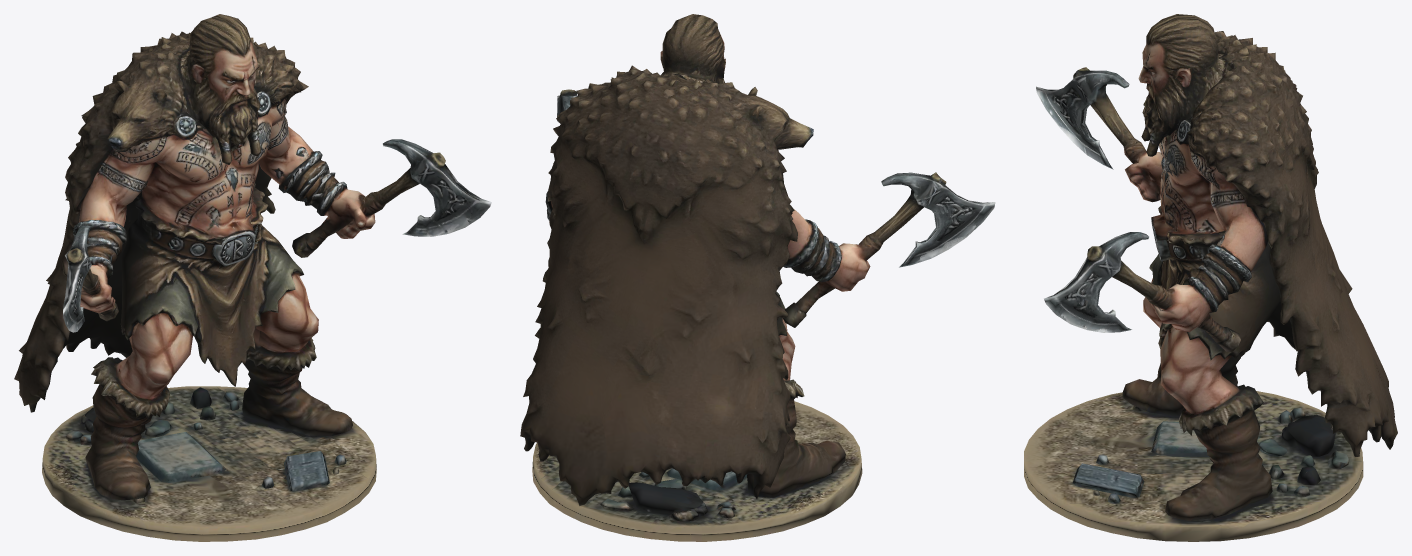
The model's file is fury_def_male.glb.
3 views of the same model, side by side, from view 1: azimuth 30°, elevation 25°; view 2: azimuth 150°, elevation 25°; view 3: azimuth 270°, elevation 25° (orthographic). The views are drawn at different scales.
Parts seen in each view (by area): view 1: tripo_node_191ae8bf-474b-4e61-a088-d55b48a2cea0; view 2: tripo_node_191ae8bf-474b-4e61-a088-d55b48a2cea0; view 3: tripo_node_191ae8bf-474b-4e61-a088-d55b48a2cea0.
Boxes of the visible parts, x1,y1,x2,y2 form: tripo_node_191ae8bf-474b-4e61-a088-d55b48a2cea0: (14, 14, 491, 541); tripo_node_191ae8bf-474b-4e61-a088-d55b48a2cea0: (520, 14, 995, 541); tripo_node_191ae8bf-474b-4e61-a088-d55b48a2cea0: (1024, 14, 1397, 541).
Bounding box in the file's own units: 0.998 × 0.998 × 0.7402.
1 material, 1 textured.
